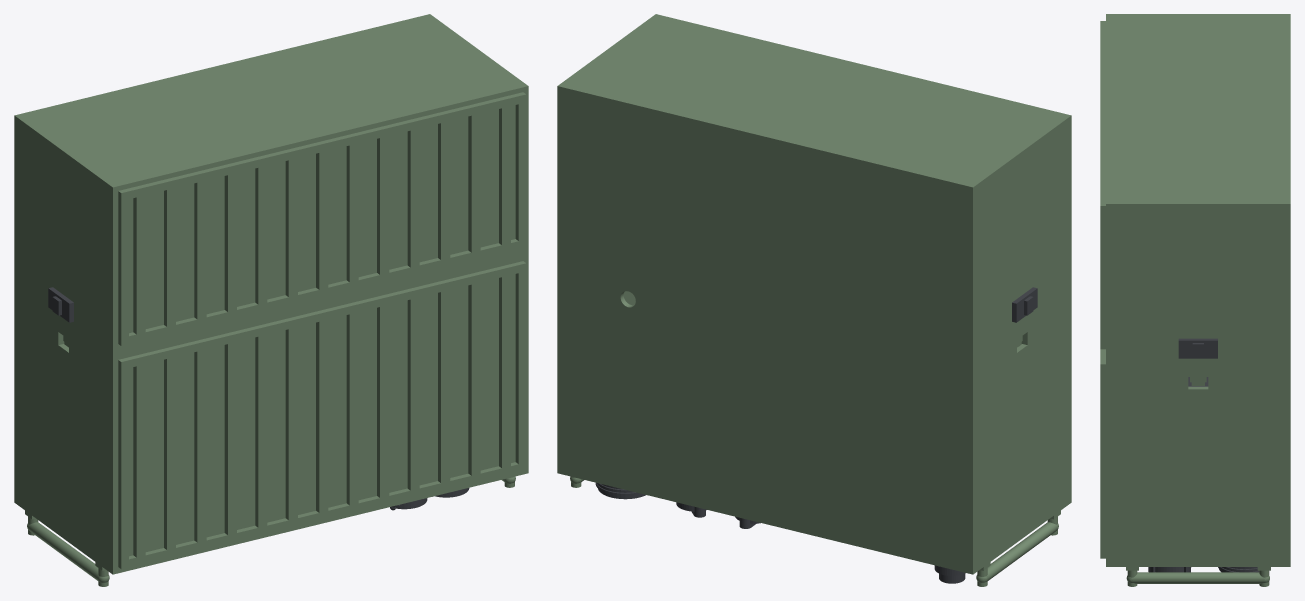
Rendered from STARSV-MK2_assembled.glb.
The picture shows the model from 3 angles, left to right: view 1: azimuth 30°, elevation 25°; view 2: azimuth 150°, elevation 25°; view 3: azimuth 270°, elevation 25°; orthographic projection. The views are drawn at different scales.
Parts seen in each view (by area): view 1: battery_box, case_front, guard_bar_left; view 2: battery_box, case_front, guard_bar_left; view 3: battery_box, case_front, guard_bar_right, latch_right.
Part boxes in pixels (box(x1,y1,x2,y2)): battery_box: box(14, 14, 528, 354); case_front: box(14, 253, 528, 574); guard_bar_left: box(25, 510, 109, 586); battery_box: box(557, 14, 1071, 354); case_front: box(557, 253, 1071, 574); guard_bar_left: box(976, 510, 1060, 586); battery_box: box(1100, 14, 1290, 385); case_front: box(1100, 349, 1290, 566); guard_bar_right: box(1126, 567, 1270, 586); latch_right: box(1178, 338, 1217, 358).
Bounding box in the file's own units: 284 × 264 × 116.
